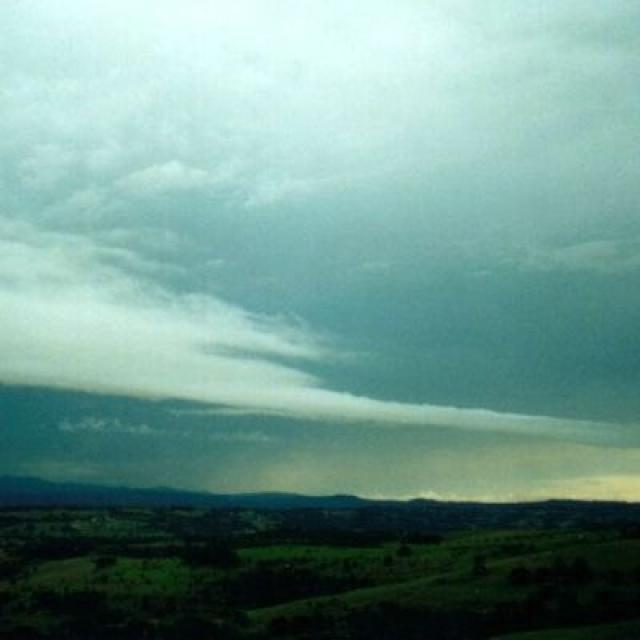St: (1, 209, 640, 466)
